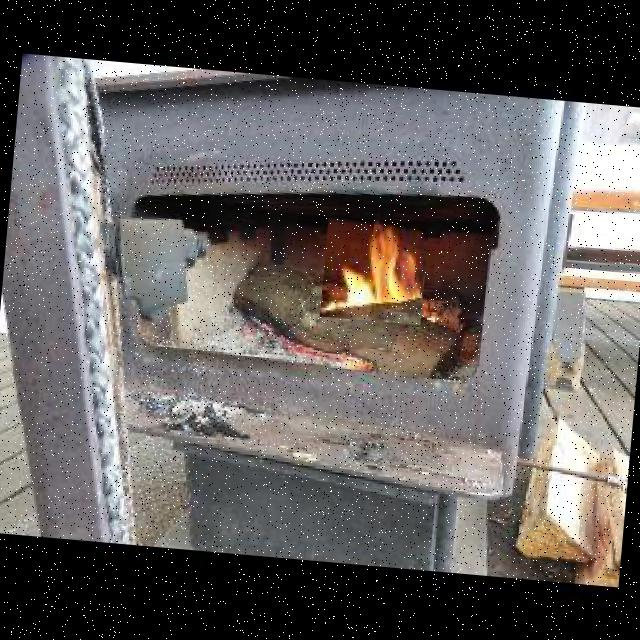fire: (320, 216, 428, 324)
